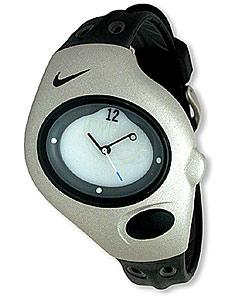watch: (30, 41, 188, 256)
